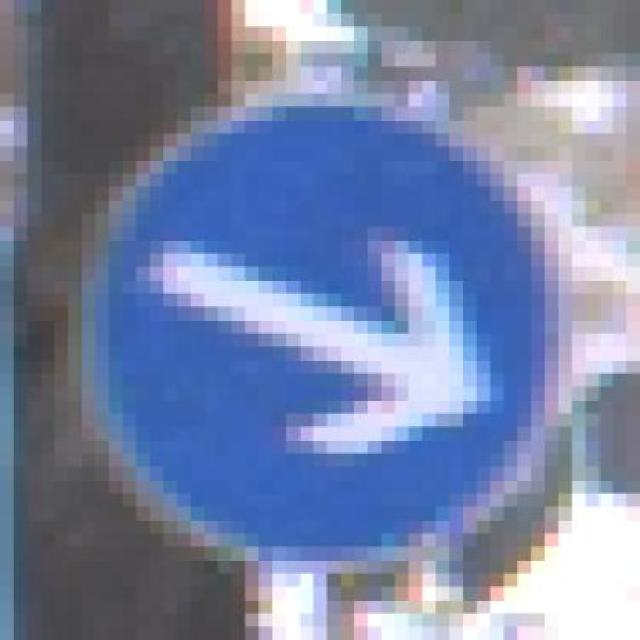Keep-Right: (55, 80, 599, 574)
